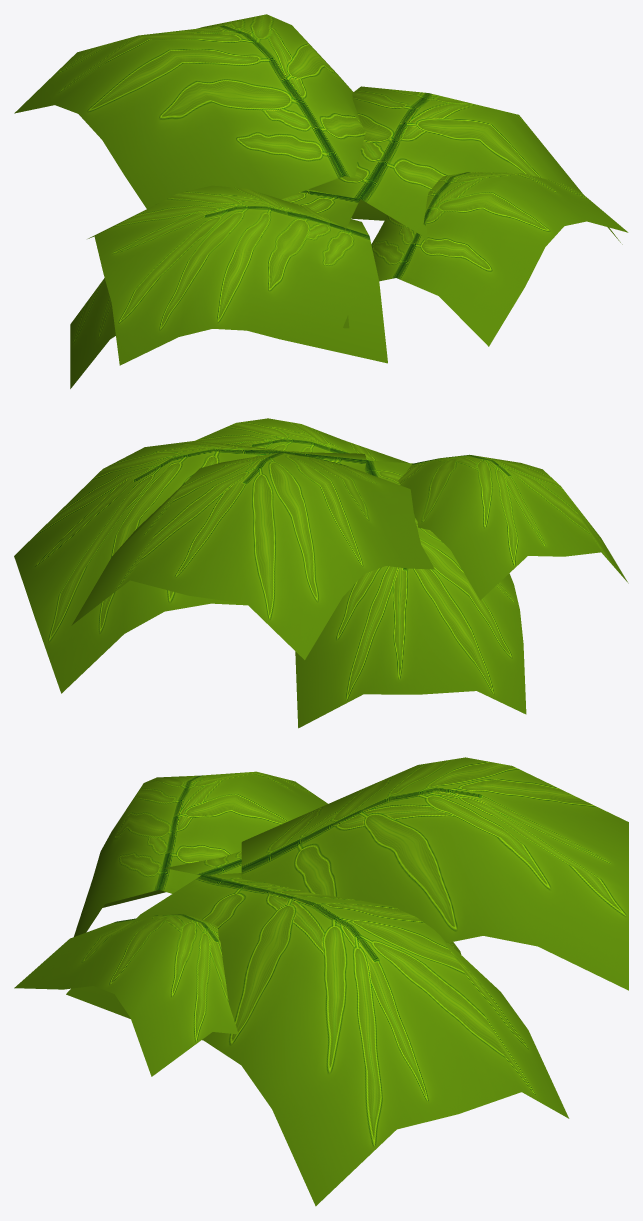
The model's file is BambooSet_part_26.fbx.
3 views of the same model, one above another, from view 1: azimuth 30°, elevation 25°; view 2: azimuth 150°, elevation 25°; view 3: azimuth 270°, elevation 25° (orthographic). The views are drawn at different scales.
Visible parts, largest first — view 1: Object_5.001; view 2: Object_5.001; view 3: Object_5.001.
Part boxes in pixels (bbox=[...]): Object_5.001: bbox=[14, 14, 628, 388]; Object_5.001: bbox=[14, 418, 628, 728]; Object_5.001: bbox=[14, 757, 628, 1206].
Size of the model in its own units: 805 by 344 by 714.
